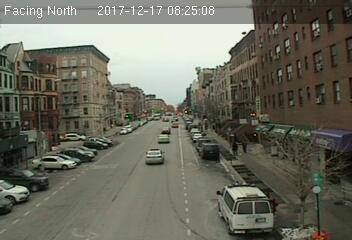car: (145, 147, 166, 165), (199, 143, 219, 159), (156, 134, 170, 144)
police: (217, 182, 276, 235)
